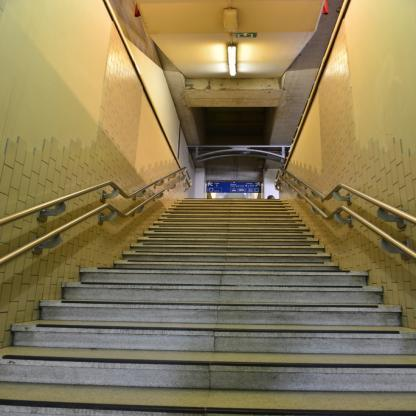stair: (61, 191, 386, 416)
